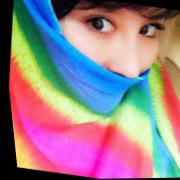WRONG: (44, 1, 177, 122)
